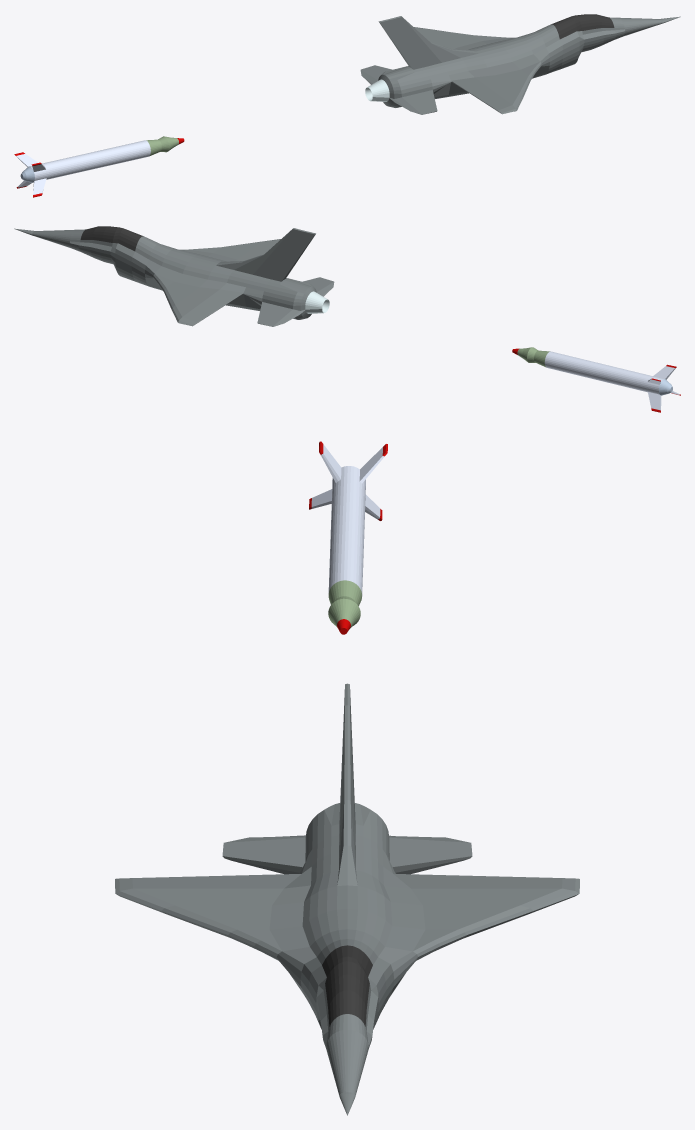
The model's file is SingleEngine.gltf.
The picture shows the model from 3 angles, top to bottom: view 1: azimuth 30°, elevation 25°; view 2: azimuth 150°, elevation 25°; view 3: azimuth 270°, elevation 25°; orthographic projection. The views are drawn at different scales.
Parts seen in each view (by area): view 1: Cylinder, Cylinder.001; view 2: Cylinder, Cylinder.001; view 3: Cylinder, Cylinder.001.
Boxes of the visible parts, <box> form: Cylinder: <box>360,14,680,114</box>; Cylinder.001: <box>14,136,184,197</box>; Cylinder: <box>14,226,334,326</box>; Cylinder.001: <box>512,347,680,412</box>; Cylinder: <box>115,683,579,1115</box>; Cylinder.001: <box>309,441,387,634</box>.
Size of the model in its own units: 7.86 by 1.05 by 2.41.
